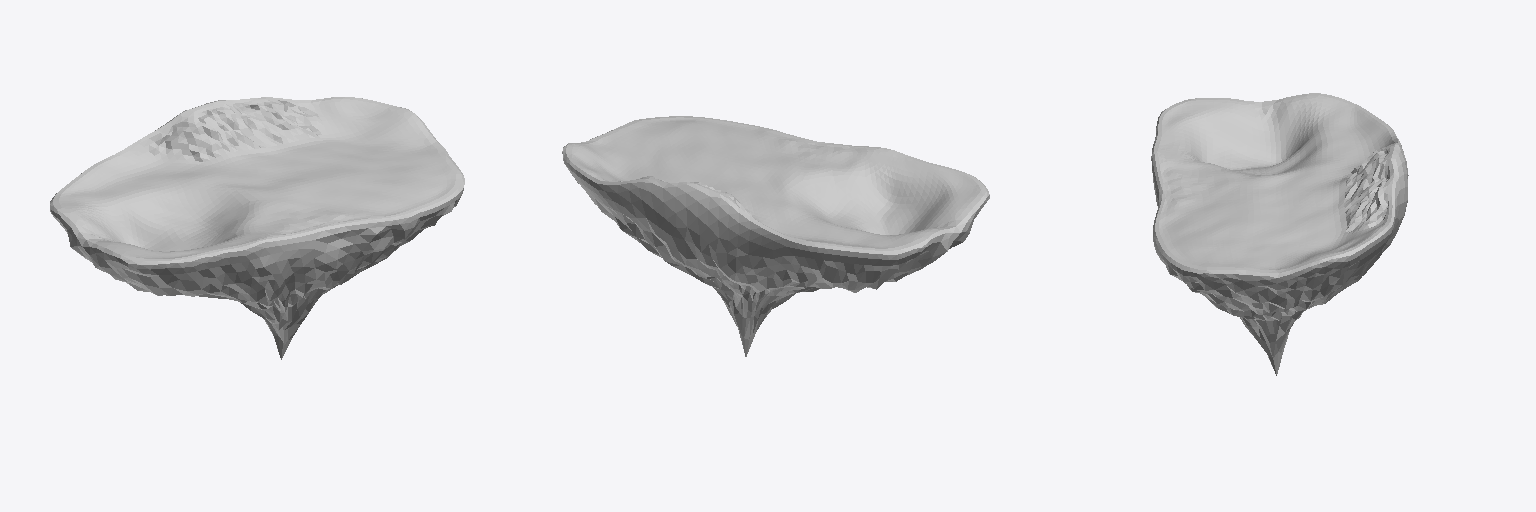
The model's file is Island.obj.
The picture shows the model from 3 angles: view 1: azimuth 30°, elevation 25°; view 2: azimuth 150°, elevation 25°; view 3: azimuth 270°, elevation 25°; orthographic projection.
Visible parts, largest first — view 1: Plane; view 2: Plane; view 3: Plane.
Part boxes in pixels (x1,y1,x2,y2): Plane: (50, 97, 464, 359); Plane: (562, 116, 989, 356); Plane: (1151, 93, 1408, 375).
Bounding box in the file's own units: 10.97 × 6.24 × 6.66.